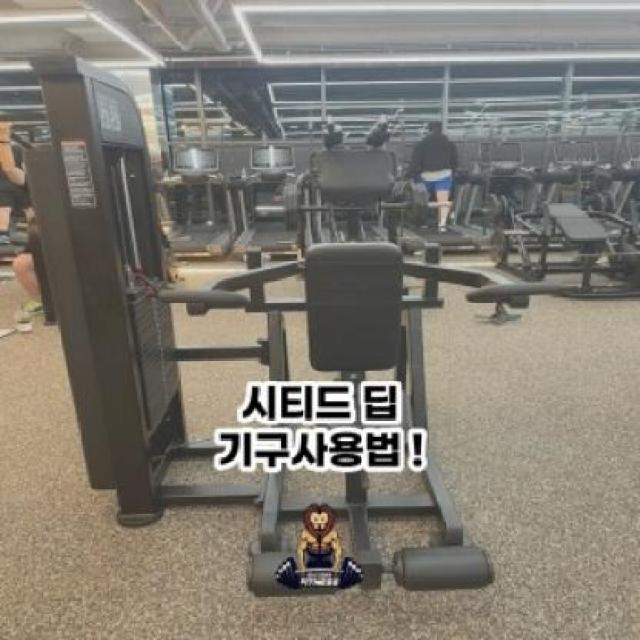seated dip machine: (20, 52, 568, 598)
